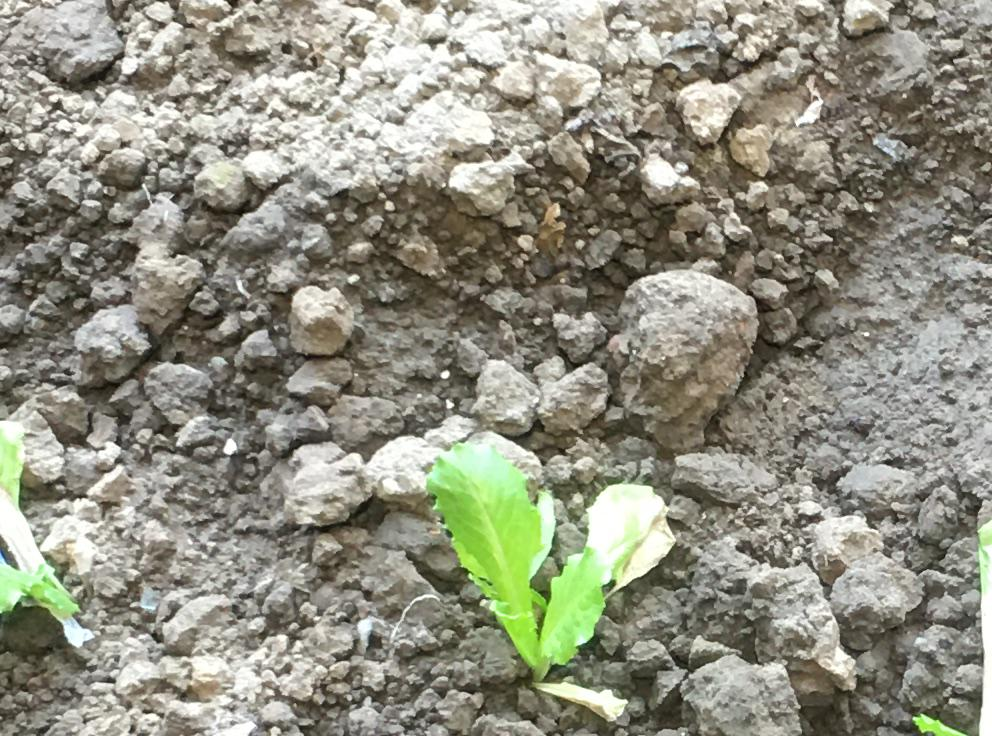block: (620, 272, 754, 454), (673, 654, 805, 736), (830, 552, 928, 652), (743, 570, 840, 670), (280, 446, 365, 527), (71, 305, 152, 385), (121, 252, 205, 328), (364, 432, 444, 507), (283, 283, 357, 359)
